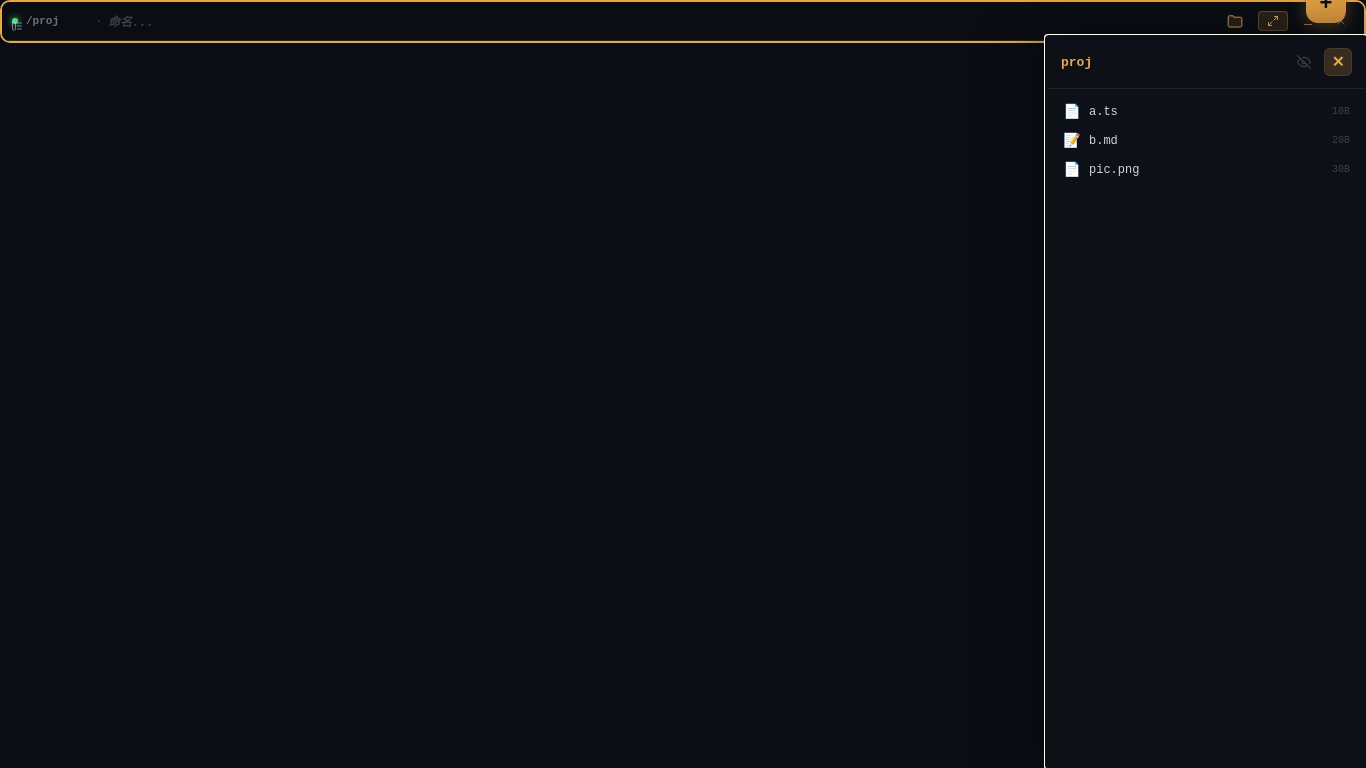
Test: M6 批B tab 式文件视图 live › ① 面板点文件行 → 视图接管(children 卸载)+fileClose 已发+readFile 拉取
The width and height of the screenshot is (1366, 768).
Check: the element with class "terminal-grid" is shown, box [0,0,1365,43]
Check: the element with class "file-panel" is shown, box [1046,36,1365,767]
Click the element showing "📄 a.ts 10B" at x=1072, y=112, box [1063,104,1350,120]
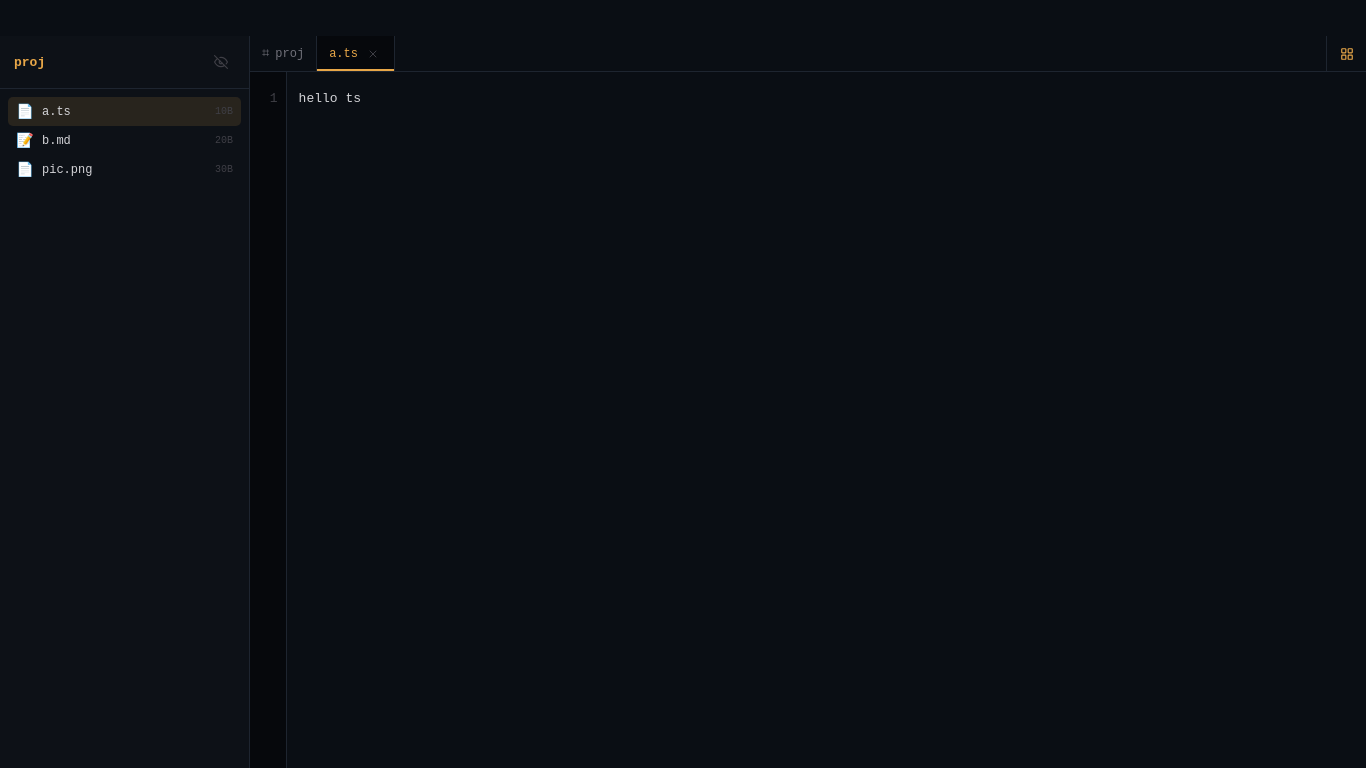
Check: the element with class "file-tabs-view" is shown
Check: the element with class "terminal-grid" is gone
